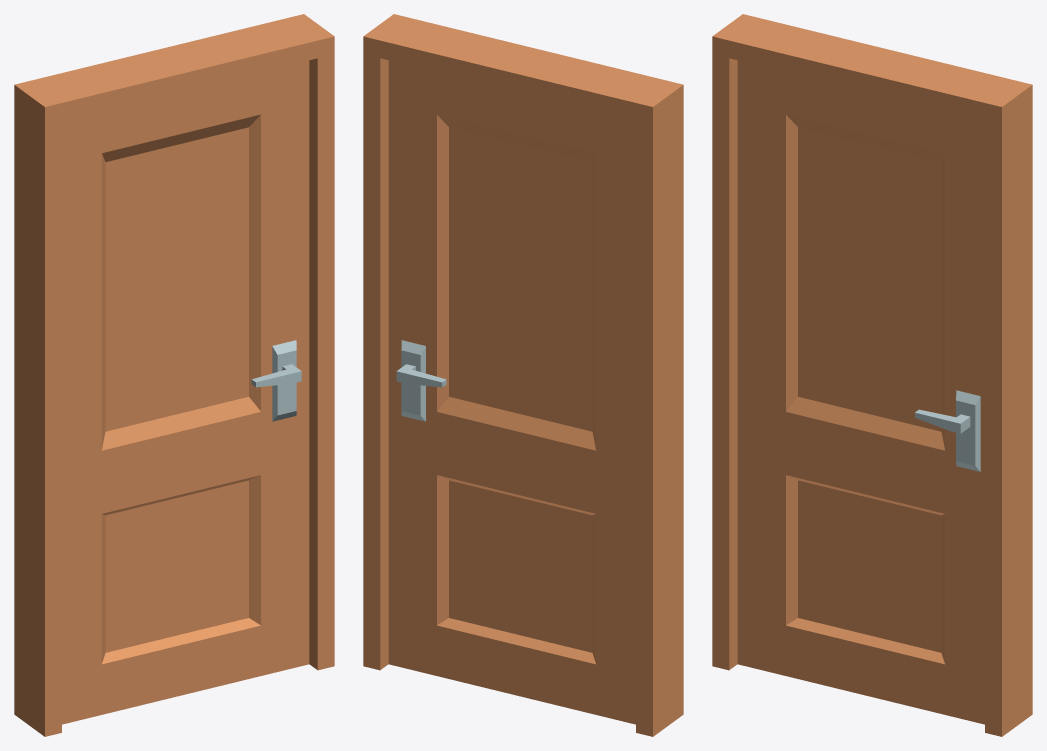
The model's file is Doorway.glb.
3 views of the same model, side by side, from view 1: azimuth 30°, elevation 25°; view 2: azimuth 150°, elevation 25°; view 3: azimuth 330°, elevation 25° (orthographic).
Visible parts, largest first — view 1: door, doorway(Clone); view 2: door, doorway(Clone); view 3: door, doorway(Clone).
Part boxes in pixels (x1=…): door: x1=62, y1=60, x2=309, y2=724; doorway(Clone): x1=14, y1=14, x2=334, y2=736; door: x1=388, y1=60, x2=635, y2=724; doorway(Clone): x1=363, y1=14, x2=683, y2=736; door: x1=737, y1=60, x2=984, y2=724; doorway(Clone): x1=712, y1=14, x2=1032, y2=736.
Bounding box in the file's own units: 0.486 × 1.01 × 0.1134.
